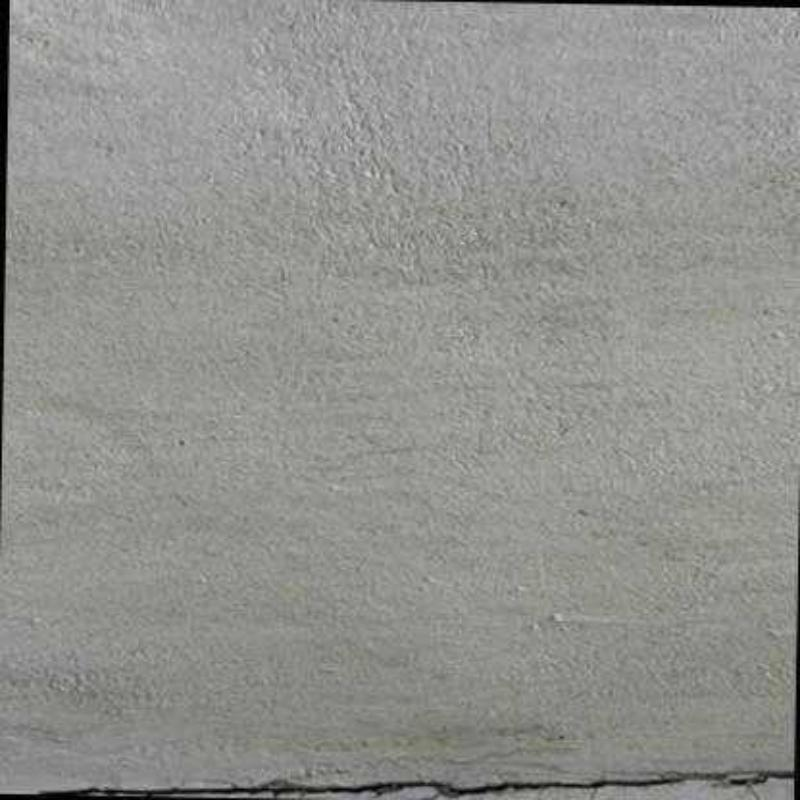crack: (11, 769, 794, 797)
